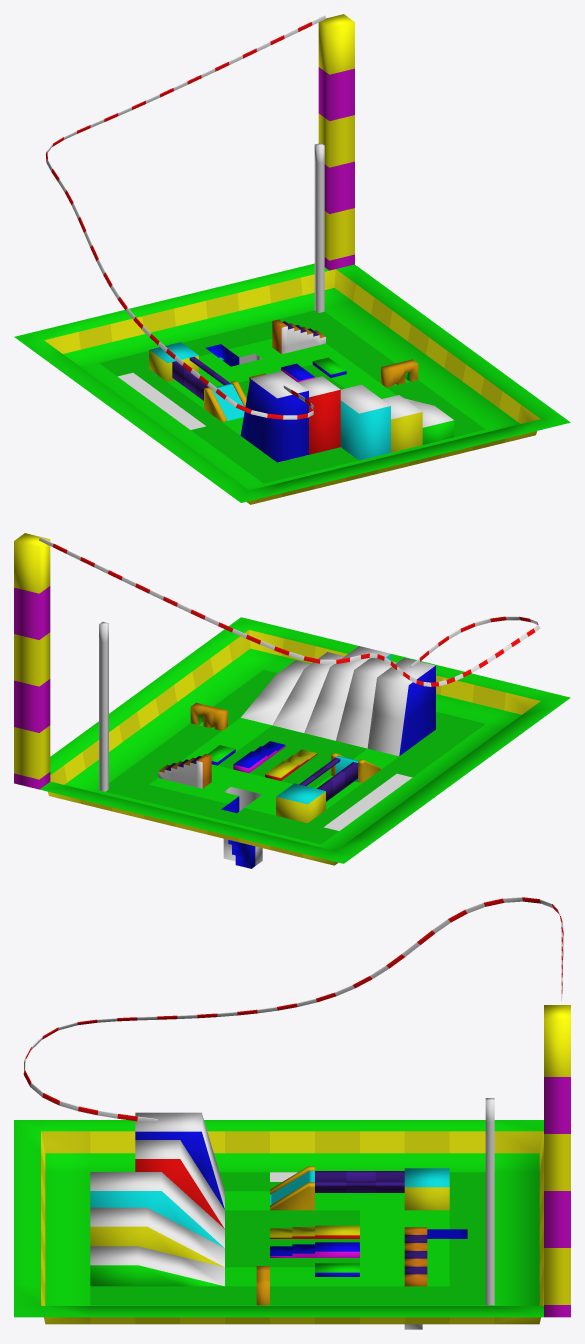
3 views of the same model, one above another, from view 1: azimuth 30°, elevation 25°; view 2: azimuth 150°, elevation 25°; view 3: azimuth 270°, elevation 25° (orthographic). The views are drawn at different scales.
Parts seen in each view (by area): view 1: object_009A8A14, object_0099C5E4, object_0099C224; view 2: object_009A8A14, object_0099C5E4, object_0099C224; view 3: object_009A8A14, object_0099C5E4, object_0099C224.
Part boxes in pixels (bbox=[...]): object_009A8A14: bbox=[14, 143, 570, 504]; object_0099C5E4: bbox=[318, 14, 354, 270]; object_0099C224: bbox=[46, 15, 325, 419]; object_009A8A14: bbox=[40, 617, 570, 868]; object_0099C5E4: bbox=[14, 533, 50, 789]; object_0099C224: bbox=[39, 537, 540, 686]; object_009A8A14: bbox=[14, 1098, 543, 1329]; object_0099C5E4: bbox=[544, 1005, 570, 1317]; object_0099C224: bbox=[23, 897, 563, 1122].
Bounding box in the file's own units: 104000 × 100084 × 124000.
